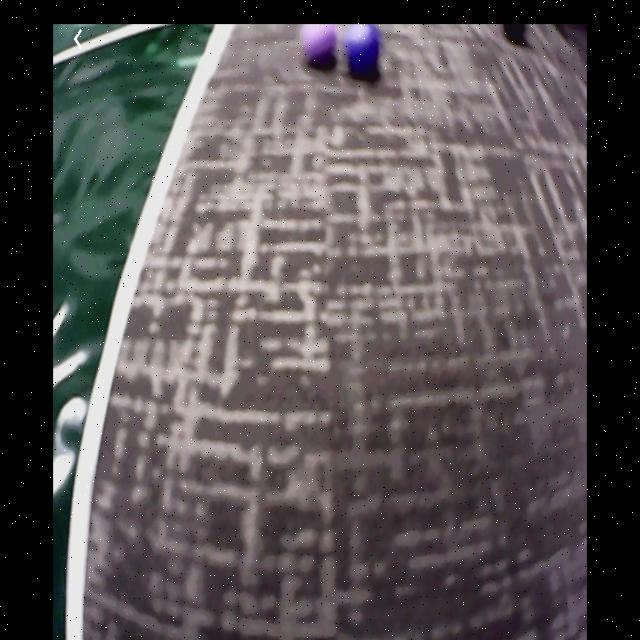ball: (347, 24, 381, 76), (303, 25, 338, 68)
